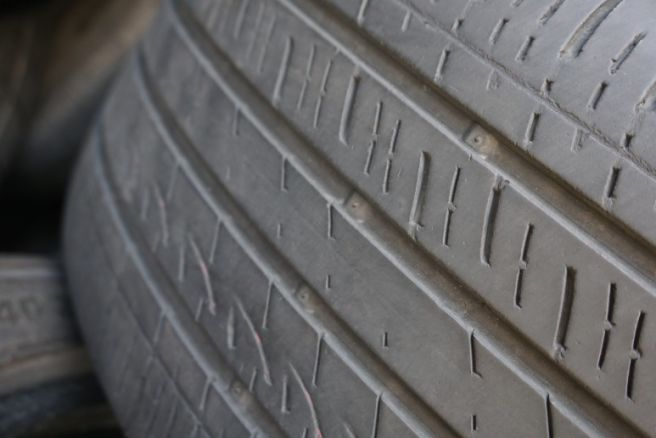middle_condition: (53, 1, 656, 428)
